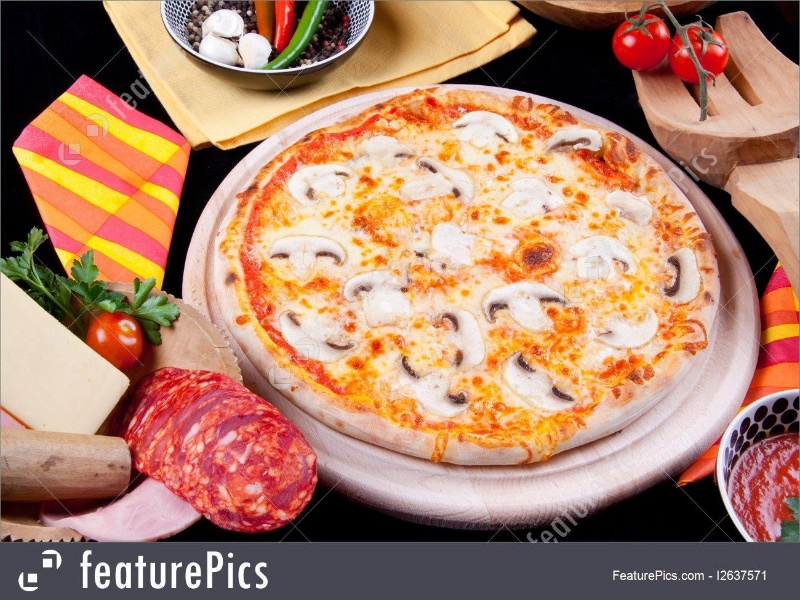champignon: (390, 351, 476, 420), (273, 302, 360, 370), (478, 277, 576, 335), (500, 346, 579, 417), (392, 154, 481, 215), (262, 232, 353, 286), (342, 270, 419, 331), (430, 304, 490, 375), (282, 160, 359, 208), (445, 108, 525, 154), (656, 244, 712, 307), (537, 123, 610, 161)
